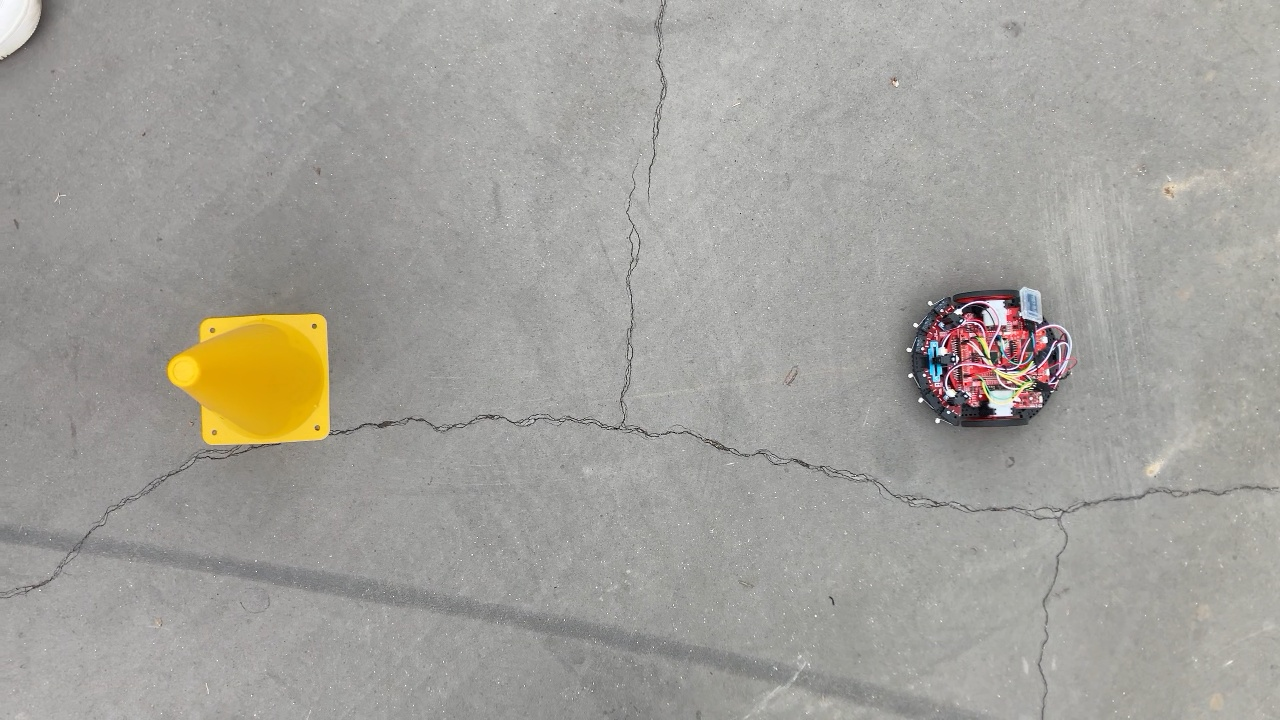robot: (899, 285, 1077, 434)
yellow_cone: (163, 311, 336, 451)
